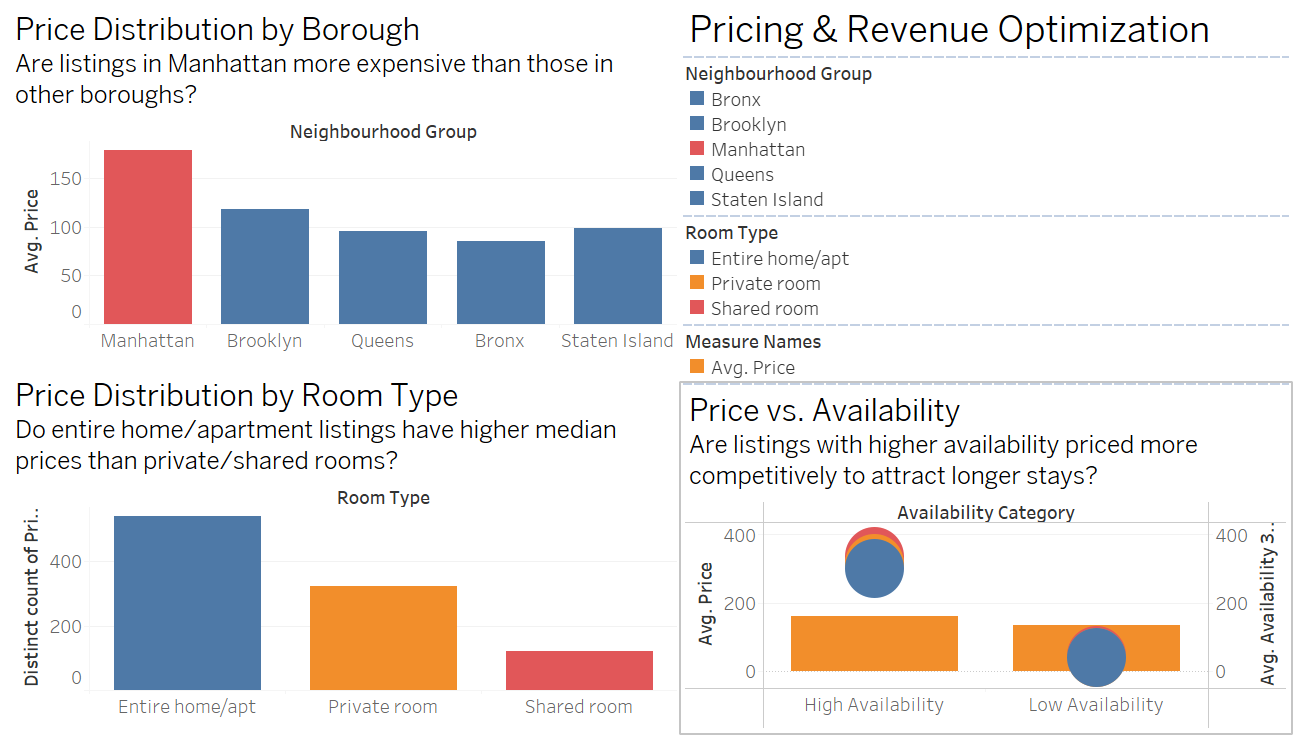

What the dashboard file says about the page in this screenshot:
{"tool":"tableau","page":{"name":"Dashboard 2","canvas":[1000,1000],"units":"permille","ordinal":1},"visuals":[{"type":"worksheet","title":"Sheet 4","mark":"Automatic","rows":["host_id"],"cols":["neighbourhood_group"],"box":[6.1,10.7,346.1,489.3]},{"type":"worksheet","title":"Sheet 5","mark":"Automatic","rows":["latitude"],"cols":["longitude"],"box":[352.2,10.7,346.3,978.6]},{"type":"legend","title":"Sheet 4","param":"[federated.0ehuq190u02xrj1abzuu80uqy7lj].[cnt:host_id:qk]","box":[698.5,10.7,118.2,121.8]},{"type":"text","box":[816.7,10.7,177.3,978.6]},{"type":"legend","title":"Sheet 5","param":"[federated.0ehuq190u02xrj1abzuu80uqy7lj].[avg:price:qk]","box":[698.5,132.5,118.2,200.8]},{"type":"legend","title":"Sheet 5","param":"[federated.0ehuq190u02xrj1abzuu80uqy7lj].[none:reviews_per_month:qk]","box":[698.5,333.3,118.2,328]},{"type":"worksheet","title":"Sheet 11","mark":"Automatic","rows":["latitude"],"cols":["longitude"],"box":[6.1,500,346.1,489.3]},{"type":"legend","title":"Sheet 11","param":"[federated.0ehuq190u02xrj1abzuu80uqy7lj].[avg:price:qk]","box":[698.5,661.3,118.2,328]}]}

Visuals, with their boxes on the dashboard's canvas, which has no fixed pixel size, in thousandths of its width and height (x1, y1, x2, y2). These are canvas units, not pixel positions in the 1293x735 screenshot, which may show the page scaled, cropped or inside an application window:
"Sheet 4" worksheet: l=6, t=11, r=352, b=500
"Sheet 5" worksheet: l=352, t=11, r=698, b=989
"Sheet 4" legend: l=698, t=11, r=817, b=132
text: l=817, t=11, r=994, b=989
"Sheet 5" legend: l=698, t=132, r=817, b=333
"Sheet 5" legend: l=698, t=333, r=817, b=661
"Sheet 11" worksheet: l=6, t=500, r=352, b=989
"Sheet 11" legend: l=698, t=661, r=817, b=989
